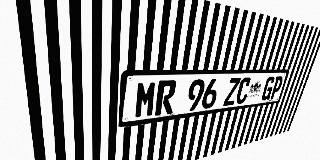6: (201, 78, 220, 109)
9: (185, 79, 206, 111)
C: (235, 77, 252, 104)
G: (260, 76, 276, 101)
M: (134, 81, 158, 119)
P: (269, 76, 284, 100)
R: (155, 80, 177, 116)
Z: (223, 78, 241, 106)
